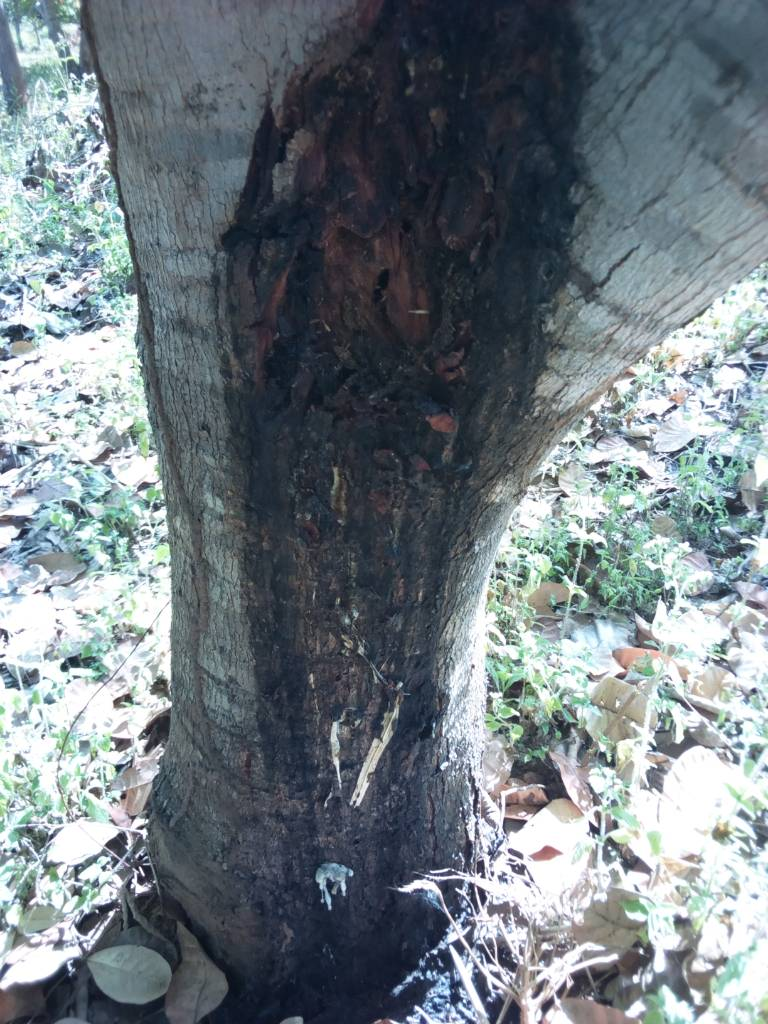Termites: (185, 444, 233, 800)
